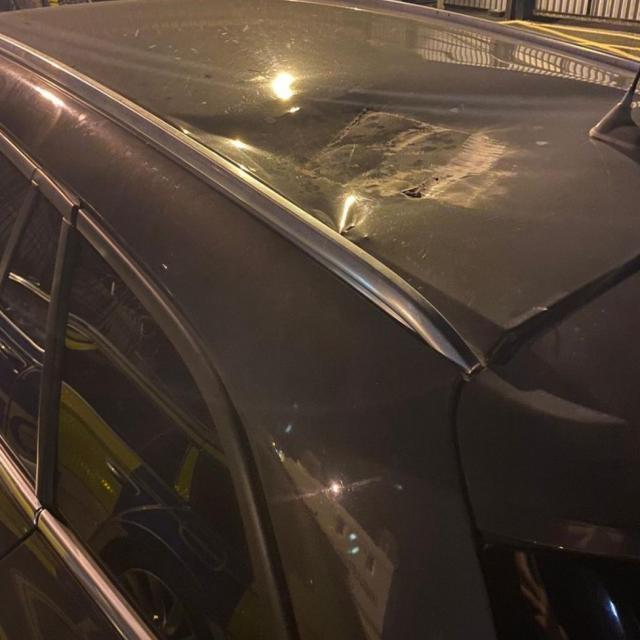roof-dent: (11, 0, 639, 306)
